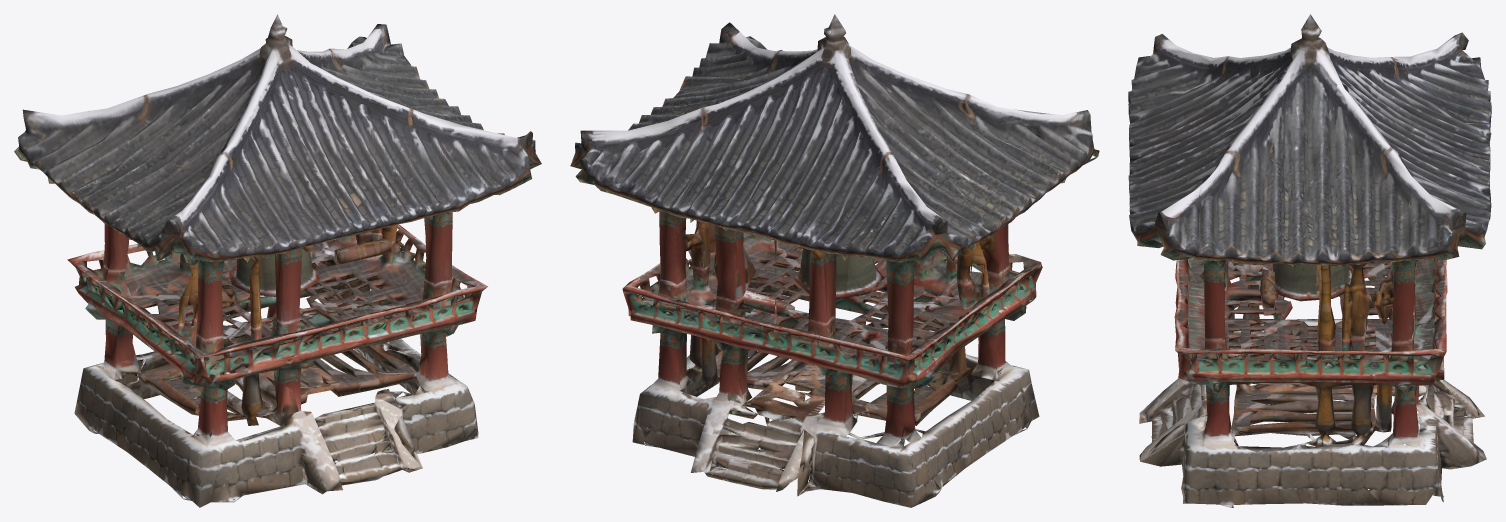
Rendered from PR_BellPavilion.fbx.
3 renders of one model, left to right at view 1: azimuth 30°, elevation 25°; view 2: azimuth 150°, elevation 25°; view 3: azimuth 270°, elevation 25°, orthographic. The views are drawn at different scales.
Visible parts, largest first — view 1: texture_mapping; view 2: texture_mapping; view 3: texture_mapping.
Part boxes in pixels (x1,y1,x2,y2): texture_mapping: (14,14,541,507); texture_mapping: (570,14,1099,507); texture_mapping: (1128,14,1491,507).
Size of the model in its own units: 0.9632 by 0.7729 by 0.9953.
1 material, 1 textured.
